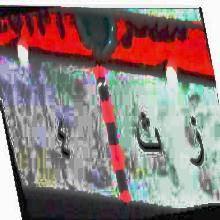4: (52, 109, 73, 175)
thaa: (132, 106, 164, 164)
zay: (185, 114, 206, 176)
